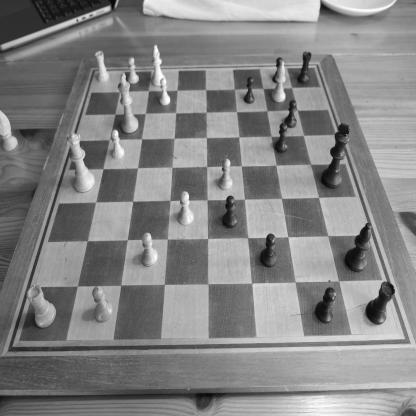black-bishop: (344, 222, 373, 273)
black-king: (320, 121, 352, 190)
black-pawn: (314, 286, 337, 324), (260, 233, 278, 268), (221, 195, 238, 229), (274, 122, 288, 153), (284, 99, 298, 129), (243, 75, 255, 104), (272, 57, 284, 84)
black-rook: (365, 280, 396, 326), (297, 50, 312, 85)
white-bishop: (151, 43, 167, 88), (270, 60, 286, 103)
white-king: (118, 72, 139, 134)
white-knight: (1, 110, 19, 152)
white-pawn: (92, 284, 114, 324), (140, 232, 159, 268), (177, 190, 194, 226), (218, 158, 233, 191), (110, 128, 125, 160), (158, 78, 172, 106), (128, 56, 140, 85)
white-queen: (66, 131, 95, 194)
white-rook: (26, 283, 57, 329), (94, 50, 110, 83)
